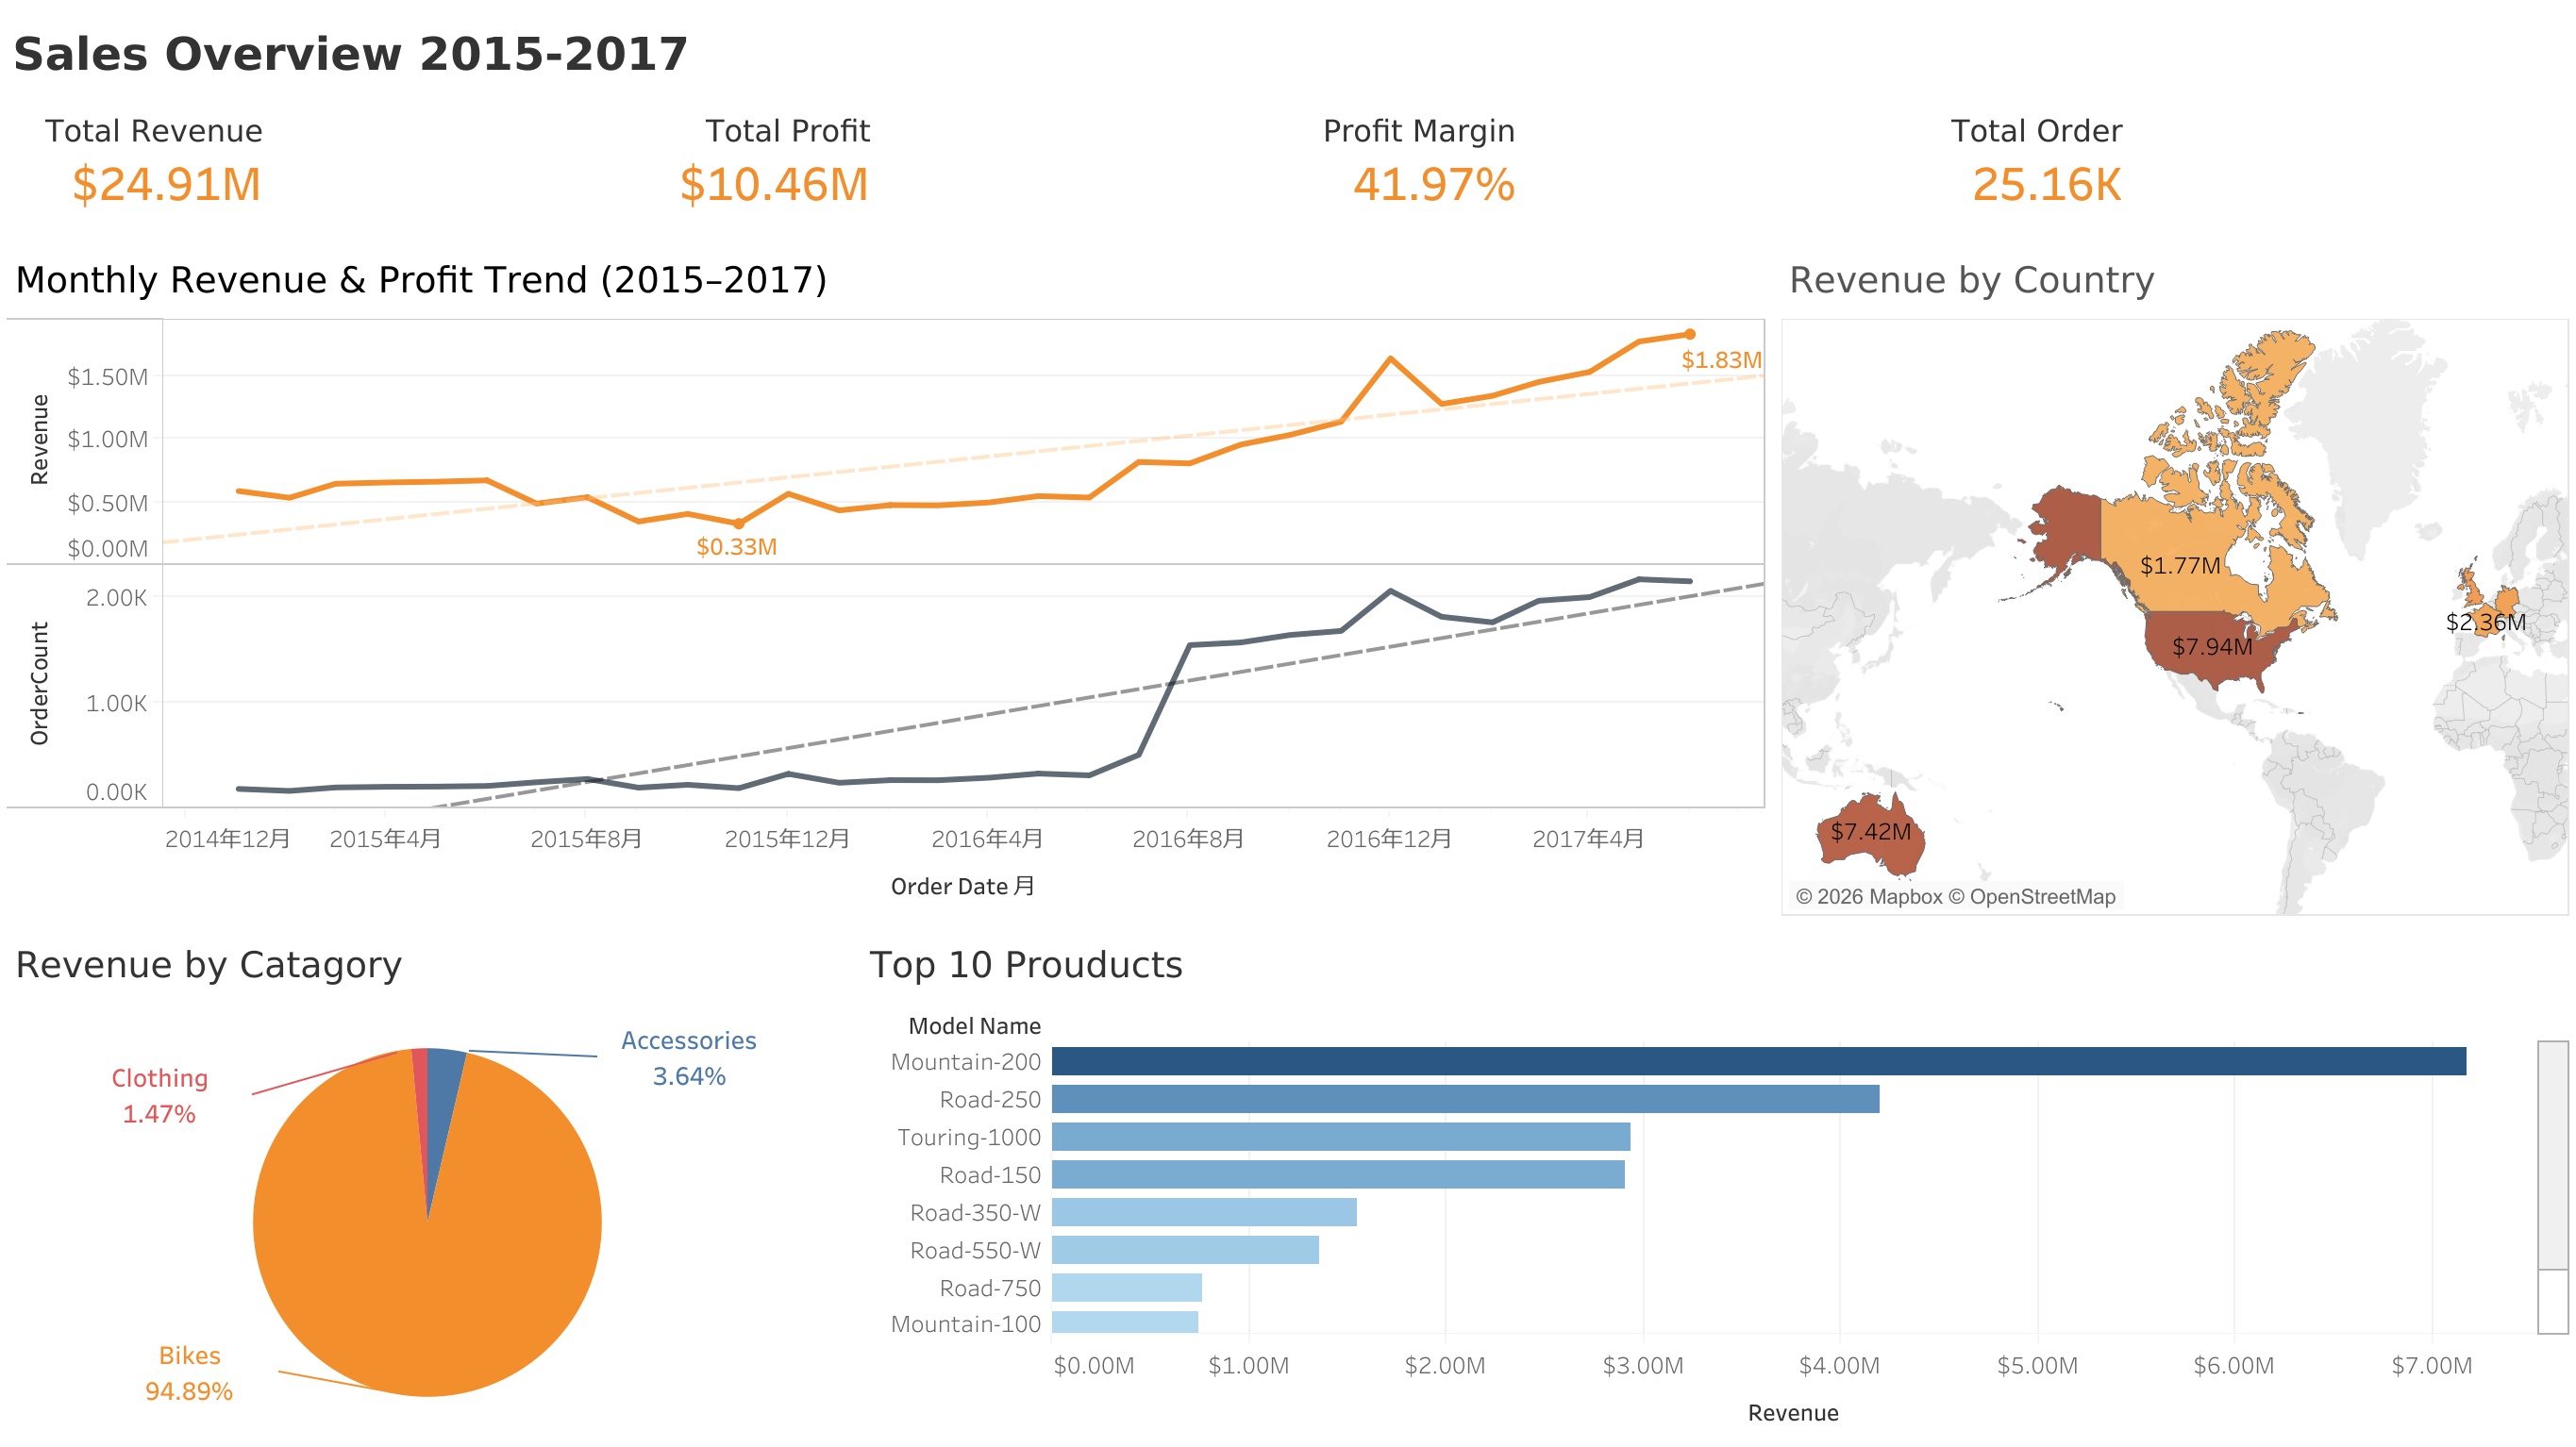

What the dashboard file says about the page in this screenshot:
{"tool":"tableau","page":{"name":"仪表板 1","canvas":[1366,768],"ordinal":0},"visuals":[{"type":"text","box":[0,0,1366,49.9]},{"type":"worksheet","title":"TotalRevenue","mark":"Automatic","box":[0,49.9,341.5,80.6]},{"type":"worksheet","title":"TotalProfit","mark":"Automatic","box":[341.5,49.9,341.5,80.6]},{"type":"worksheet","title":"ProfitMargin","mark":"Automatic","box":[683,49.9,341.5,80.6]},{"type":"worksheet","title":"Total Order","mark":"Automatic","box":[1024.5,49.9,341.5,80.6]},{"type":"worksheet","title":"Monthly Revenue","mark":"Automatic","rows":["Revenue","Calculation_0466003173904385"],"cols":["OrderDate"],"box":[0,130.6,915.2,322.6]},{"type":"worksheet","title":"map","mark":"Automatic","box":[915.2,130.6,450.8,322.6]},{"type":"worksheet","title":"Revenue by Catagory","mark":"Bar","rows":["CategoryName"],"cols":["Revenue"],"box":[0,453.1,409.8,314.9]},{"type":"worksheet","title":"top10","mark":"Bar","rows":["ModelName"],"cols":["Revenue"],"box":[409.8,453.1,956.2,314.9]}]}

Visuals, with their boxes in screenshot pixels (x1, y1, x2, y2), scaled from the page's 1366x768 canvas onto the 2576x1447 screenshot:
text: (0, 0, 2575, 94)
"TotalRevenue" worksheet: (0, 94, 644, 246)
"TotalProfit" worksheet: (644, 94, 1288, 246)
"ProfitMargin" worksheet: (1288, 94, 1932, 246)
"Total Order" worksheet: (1932, 94, 2575, 246)
"Monthly Revenue" worksheet: (0, 246, 1726, 854)
"map" worksheet: (1726, 246, 2575, 854)
"Revenue by Catagory" worksheet (Bar marks): (0, 854, 773, 1446)
"top10" worksheet (Bar marks): (773, 854, 2575, 1446)
